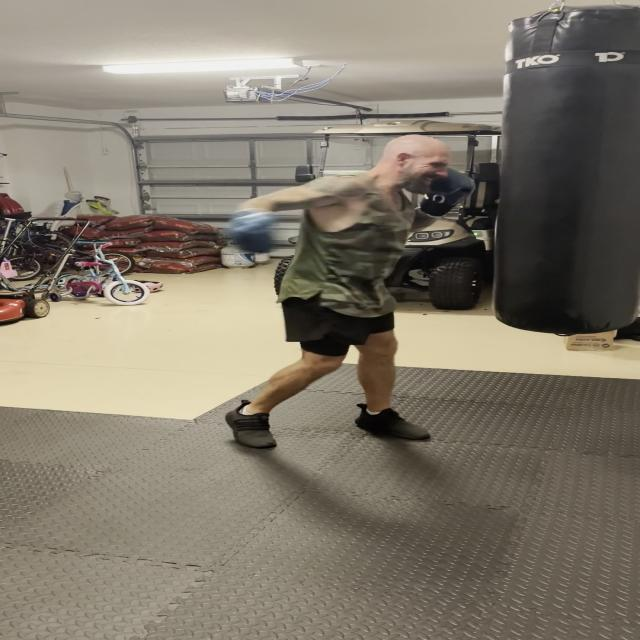punch: (220, 138, 538, 266)
